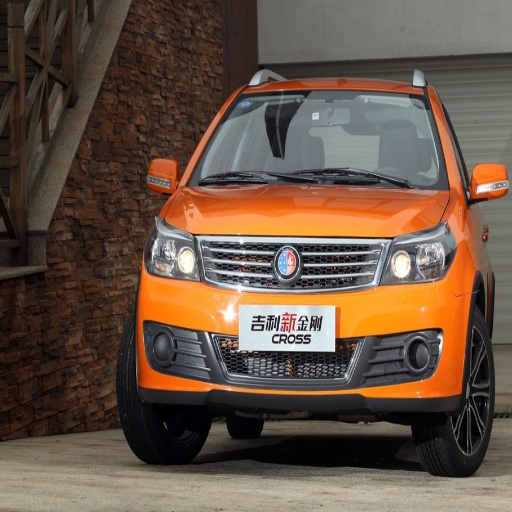front_bumper: (143, 235, 476, 411)
front_right_light: (147, 222, 203, 281)
hood: (163, 182, 452, 237)
left_mirror: (468, 162, 508, 203)
